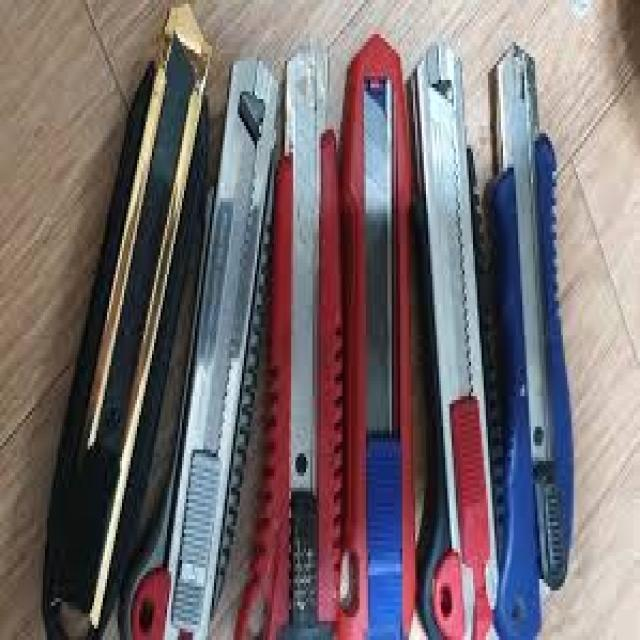cutter: (18, 0, 222, 640), (110, 57, 290, 639), (407, 13, 505, 640), (238, 31, 338, 640), (484, 19, 580, 640), (338, 20, 412, 640)
